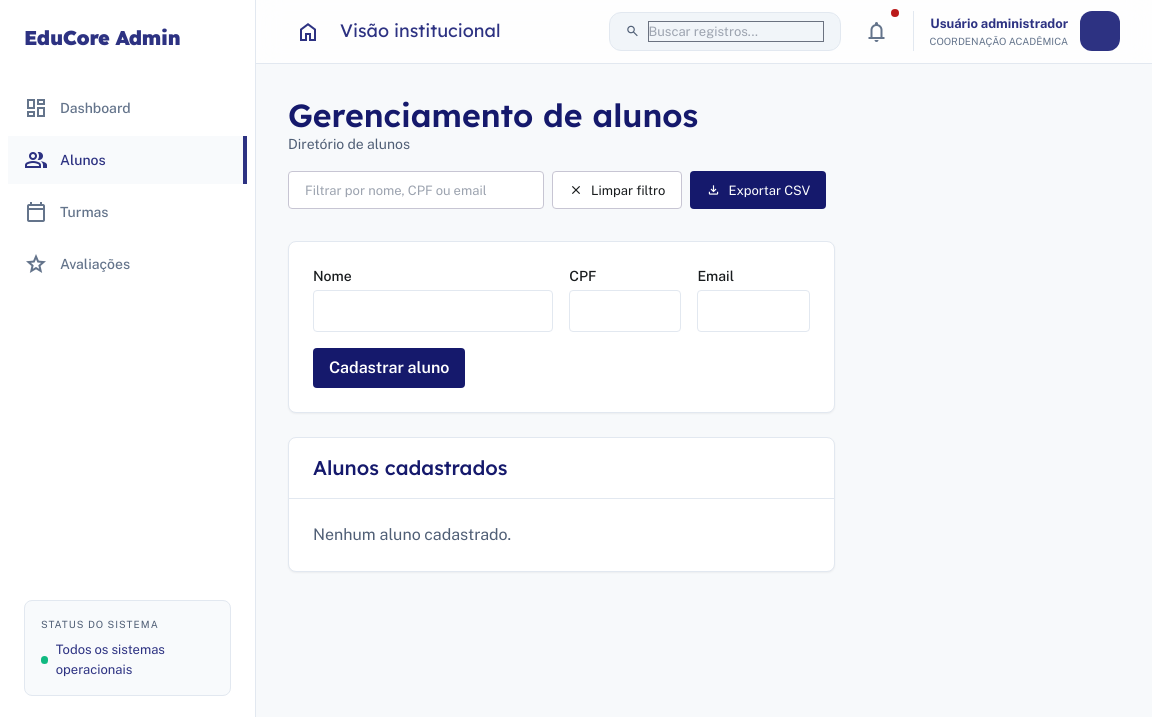
Test: Tela de turmas › navega para tela de turmas
Expected: the heading "Gerenciamento de alunos" is shown, top-left (288, 96), bottom-right (698, 134)
Click the button "Turmas" at point(128, 212), box top-left (8, 188), bottom-right (247, 236)
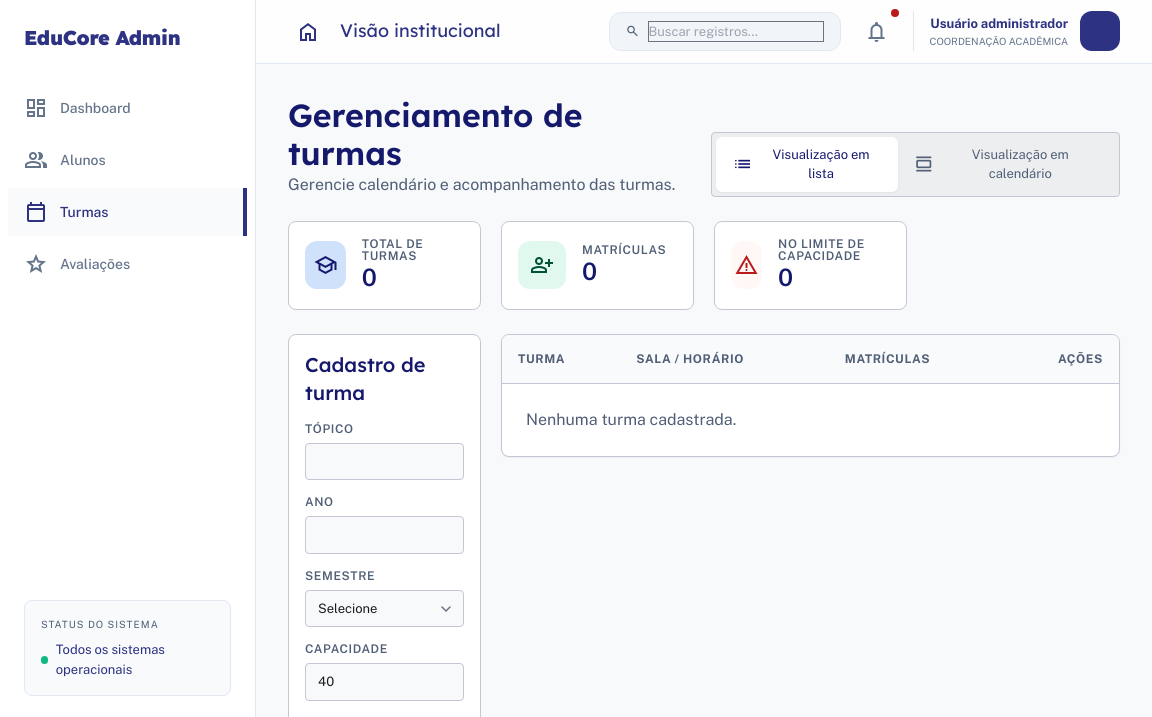
Expected: the heading "Gerenciamento de turmas" is shown, top-left (288, 95), bottom-right (583, 173)
